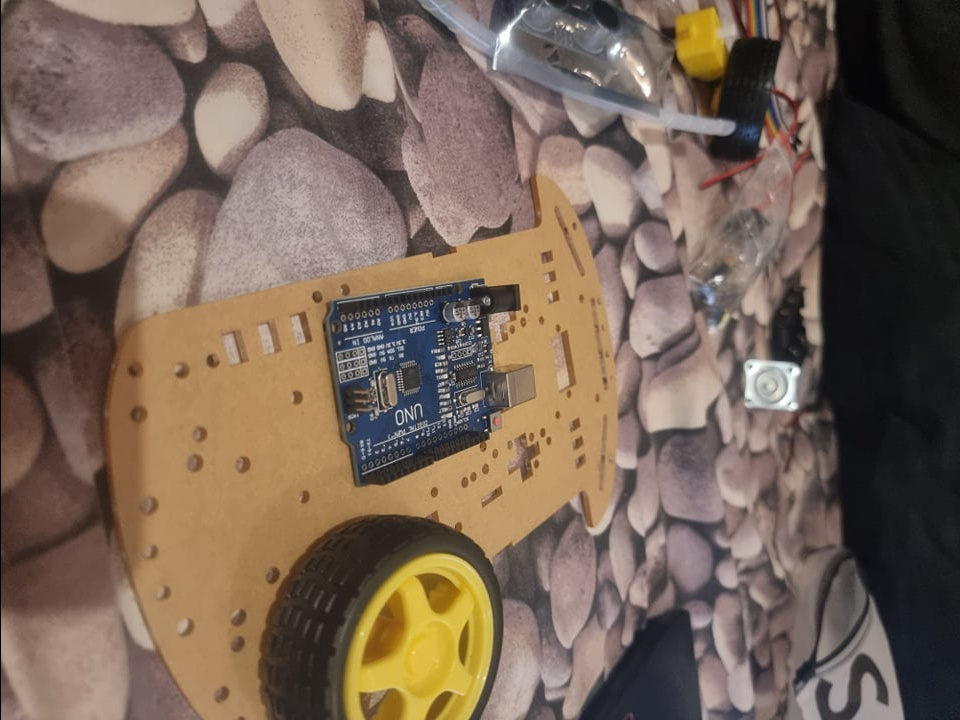BATTERY BOX: (768, 287, 817, 367)
UNO R3: (320, 279, 538, 493)
